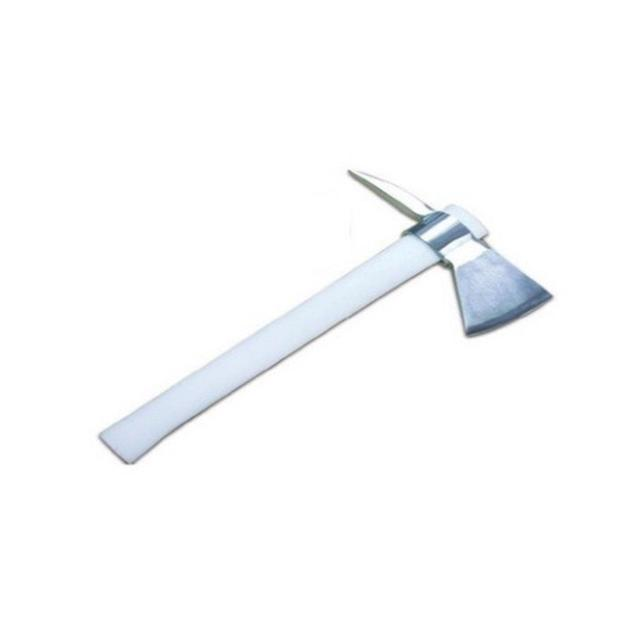Kapak: (109, 156, 547, 457)
